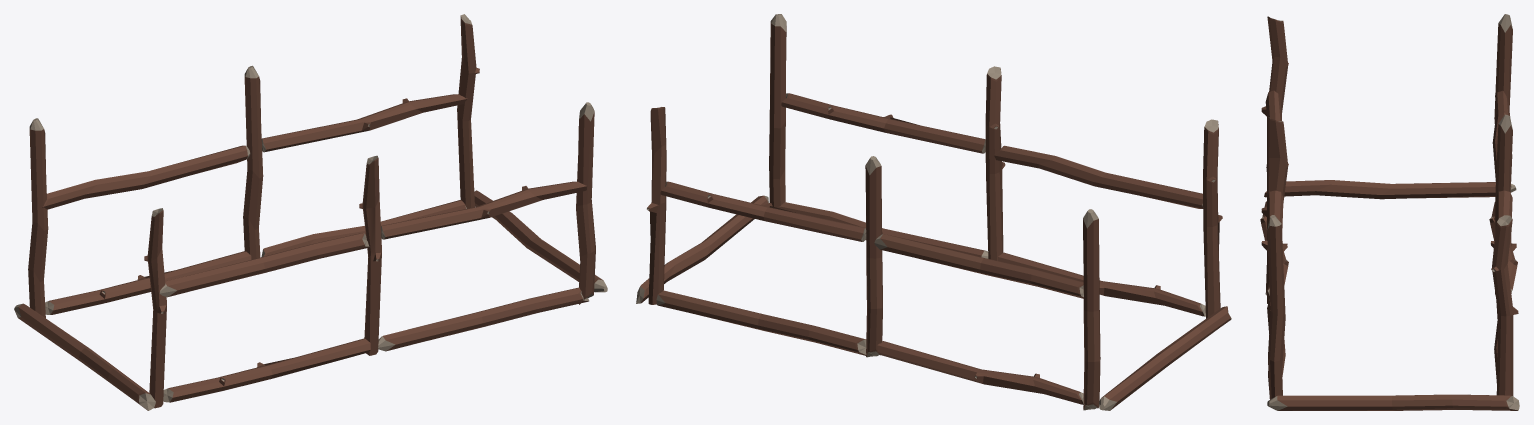
The model's file is Log Holder.fbx.
The picture shows the model from 3 angles, left to right: view 1: azimuth 30°, elevation 25°; view 2: azimuth 150°, elevation 25°; view 3: azimuth 270°, elevation 25°; orthographic projection. The views are drawn at different scales.
Visible parts, largest first — view 1: Log Holder Part 02, Log Holder Part 05, Log Holder Part 14, Log Holder Part 03, Log Holder Part 15, Log Holder Part 06, Log Holder Part 07, Log Holder Part 12, Log Holder Part 10, Log Holder Part 04, Log Holder Part 01, Log Holder Part 09 (+4 smaller); view 2: Log Holder Part 11, Log Holder Part 14, Log Holder Part 02, Log Holder Part 15, Log Holder Part 10, Log Holder Part 06, Log Holder Part 12, Log Holder Part 13, Log Holder Part 07, Log Holder Part 04, Log Holder Part 01, Log Holder Part 09 (+4 smaller); view 3: Log Holder Part 08, Log Holder Part 16, Log Holder Part 09, Log Holder Part 07, Log Holder Part 04, Log Holder Part 01, Log Holder Part 15, Log Holder Part 12, Log Holder Part 10, Log Holder Part 06, Log Holder Part 14, Log Holder Part 02.
Part boxes in pixels (x1,y1,x2,y2): Log Holder Part 02: (159,233,369,297); Log Holder Part 05: (378,287,589,351); Log Holder Part 14: (42,145,250,209); Log Holder Part 03: (163,338,370,402); Log Holder Part 15: (28,118,48,318); Log Holder Part 06: (381,181,586,239); Log Holder Part 07: (576,102,595,304); Log Holder Part 12: (243,65,263,259); Log Holder Part 10: (261,94,467,152); Log Holder Part 04: (359,155,381,355); Log Holder Part 01: (144,208,166,408); Log Holder Part 09: (457,14,479,208); Log Holder Part 11: (656,290,869,356); Log Holder Part 14: (874,234,1083,298); Log Holder Part 02: (994,145,1203,208); Log Holder Part 15: (1083,209,1100,410); Log Holder Part 10: (660,181,866,241); Log Holder Part 06: (781,93,985,153); Log Holder Part 12: (865,156,882,357); Log Holder Part 13: (877,341,1084,404); Log Holder Part 07: (769,14,786,207); Log Holder Part 04: (985,66,1005,260); Log Holder Part 01: (1203,119,1222,318); Log Holder Part 09: (647,107,666,304); Log Holder Part 08: (1267,394,1519,410); Log Holder Part 16: (1264,180,1516,199); Log Holder Part 09: (1491,215,1518,395); Log Holder Part 07: (1267,215,1285,399); Log Holder Part 04: (1261,117,1288,303); Log Holder Part 01: (1261,16,1288,196); Log Holder Part 15: (1494,14,1512,192); Log Holder Part 12: (1494,114,1512,246); Log Holder Part 10: (1490,190,1517,292); Log Holder Part 06: (1261,190,1288,295); Log Holder Part 14: (1492,90,1511,190); Log Holder Part 02: (1265,90,1281,180).
Size of the model in its own units: 2.28 by 0.9322 by 1.13.
